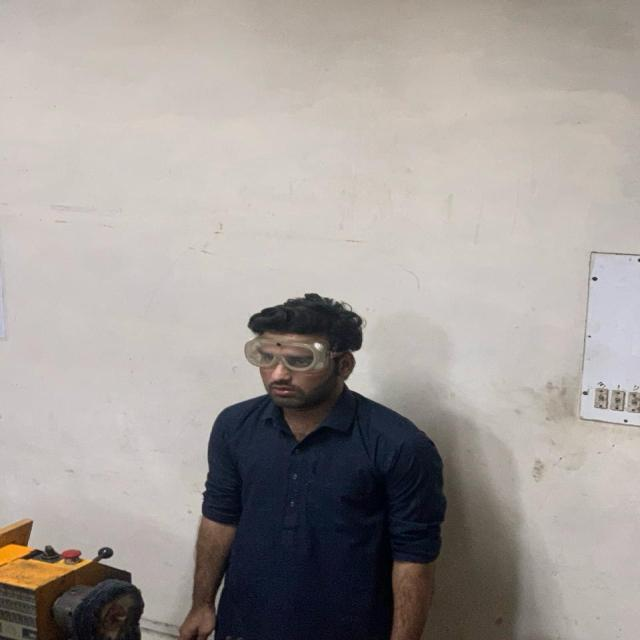googles: (243, 334, 337, 376)
